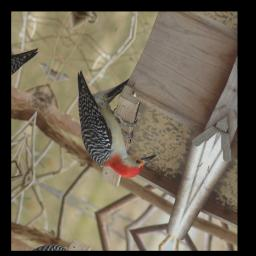Woodpecker: (50, 63, 177, 192)
